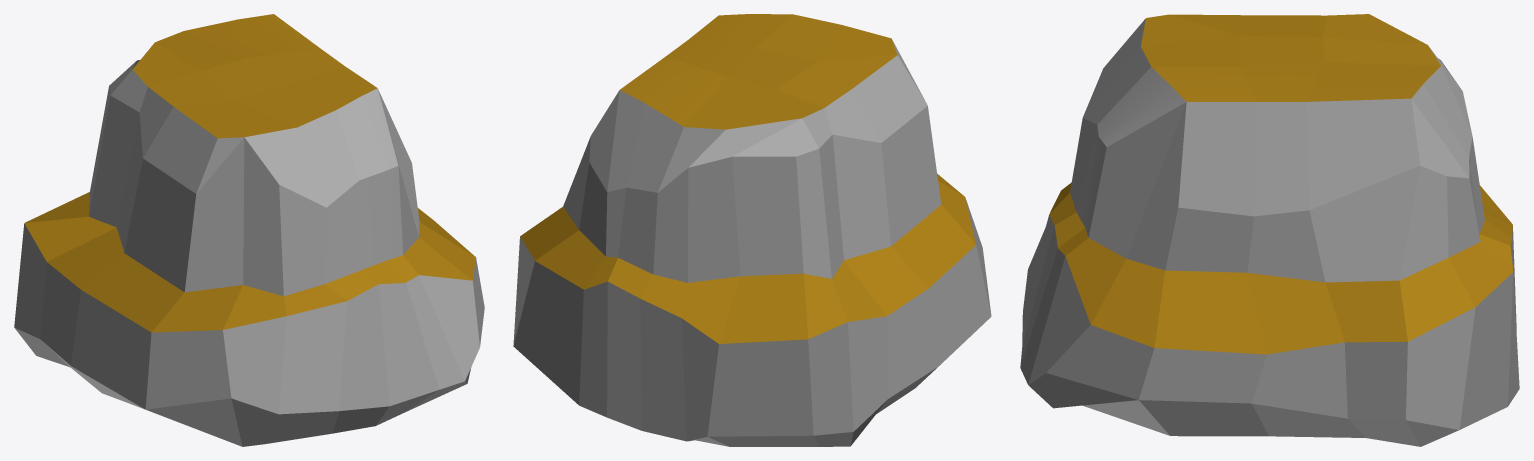
The model's file is 3D_prop_object_BaseRocks_001.fbx.
3 renders of one model, left to right at view 1: azimuth 30°, elevation 25°; view 2: azimuth 150°, elevation 25°; view 3: azimuth 270°, elevation 25°, orthographic. The views are drawn at different scales.
Parts seen in each view (by area): view 1: polySurface2; view 2: polySurface2; view 3: polySurface2.
Part boxes in pixels (x1,y1,x2,y2): polySurface2: (14,14,484,446); polySurface2: (513,14,991,446); polySurface2: (1020,14,1519,446).
Size of the model in its own units: 9.85 by 7.63 by 10.58.
